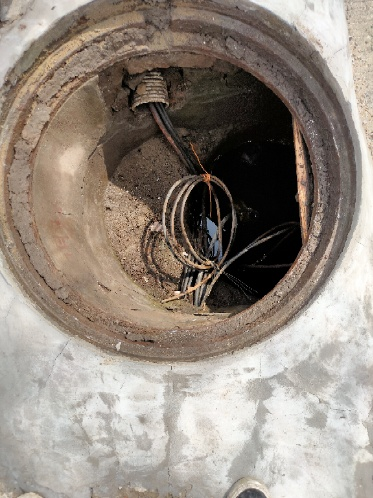lose: (2, 1, 361, 364)
